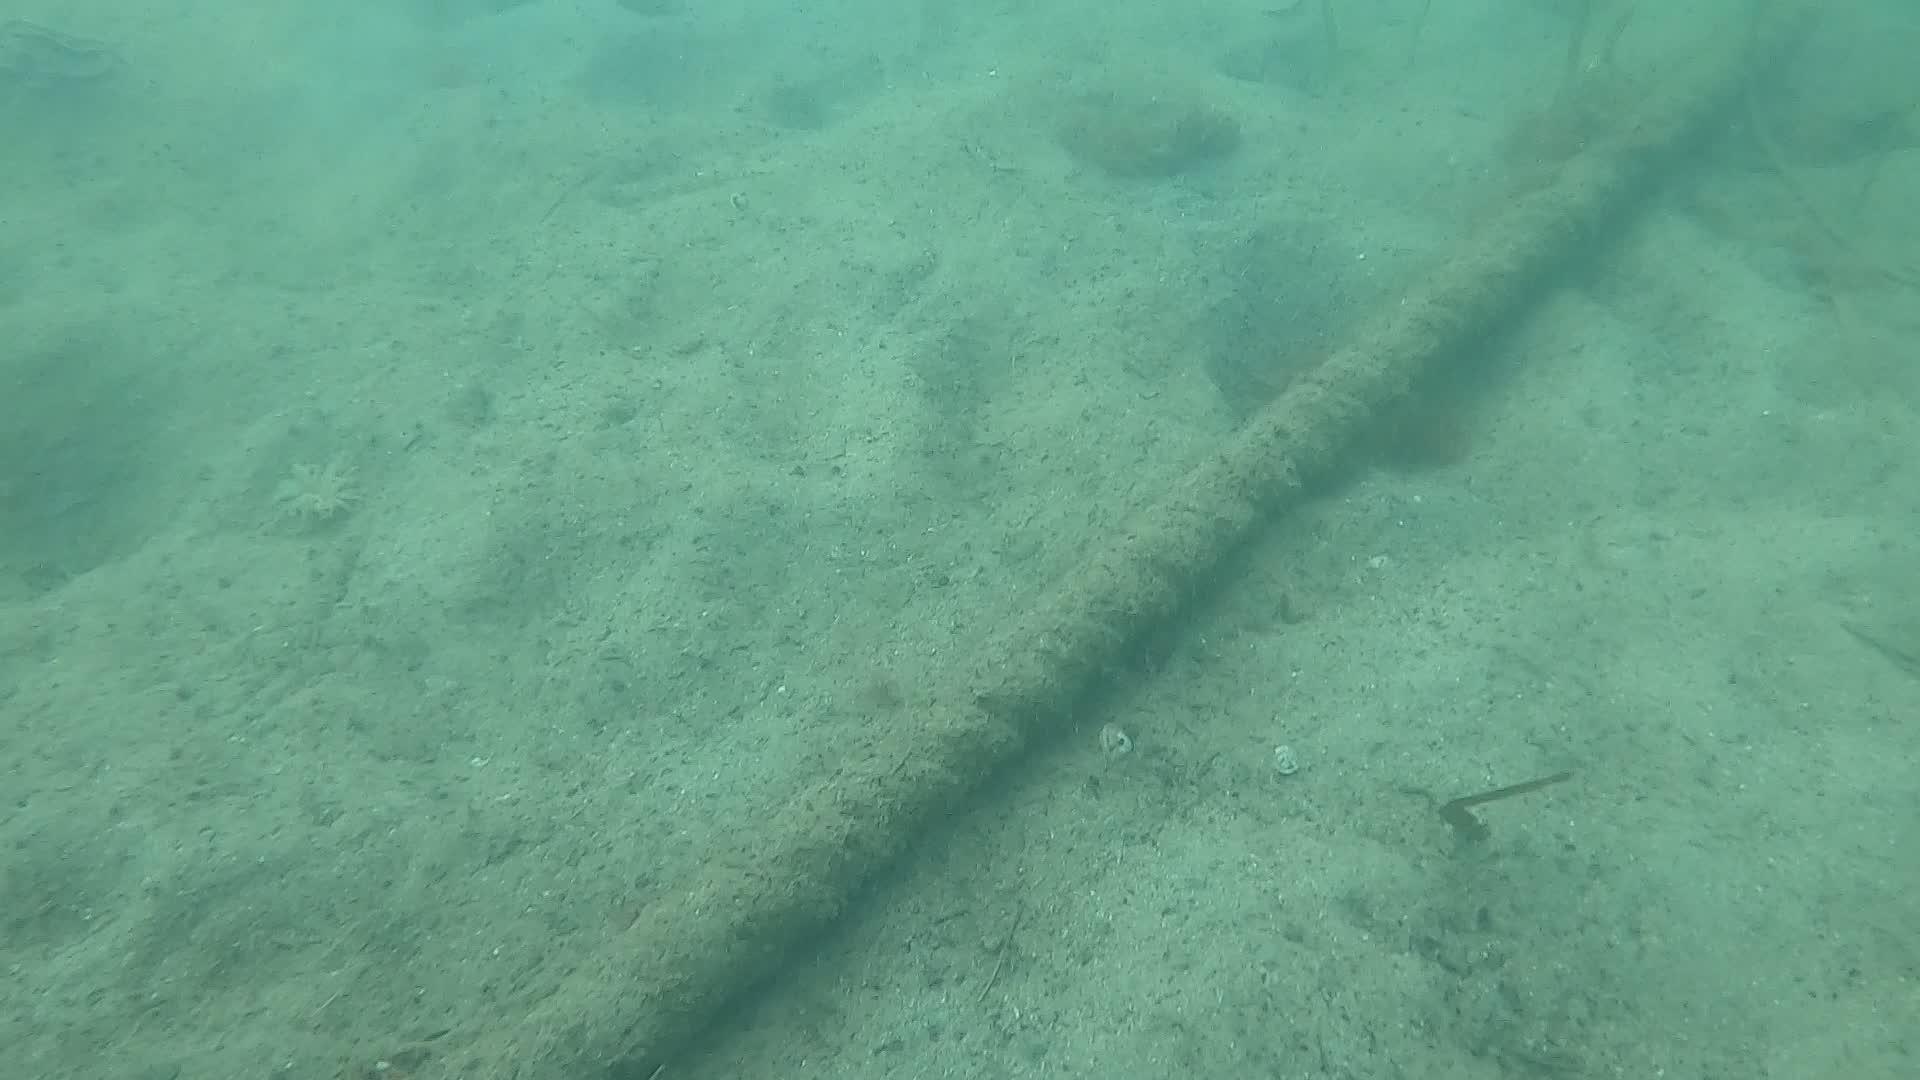rope: (410, 0, 1828, 1080)
